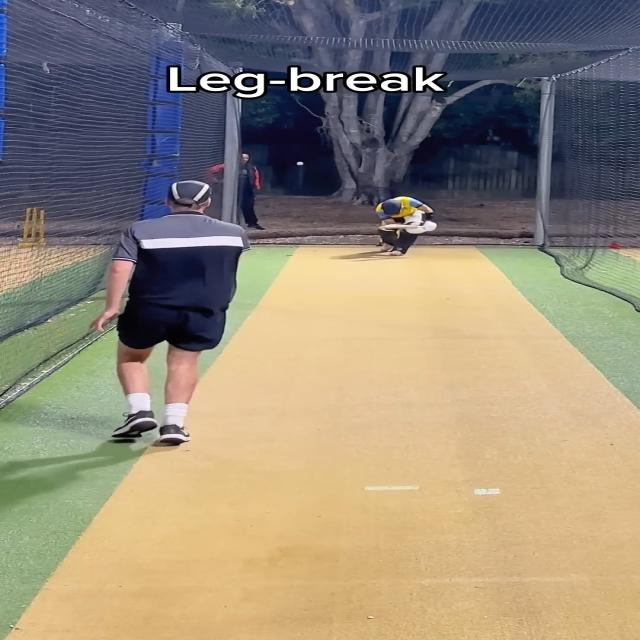Cricket ball: (296, 161, 304, 166)
